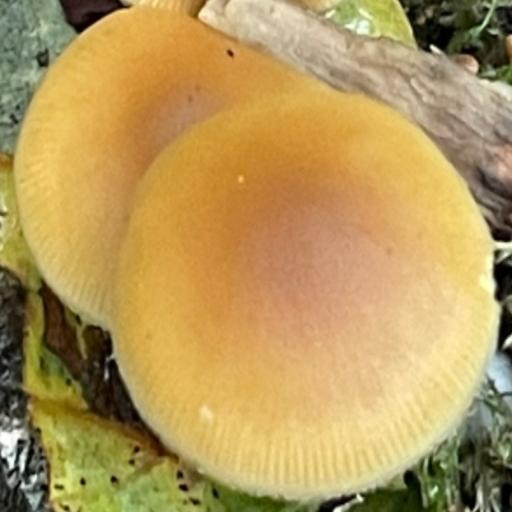mushroom: (19, 3, 500, 499)
